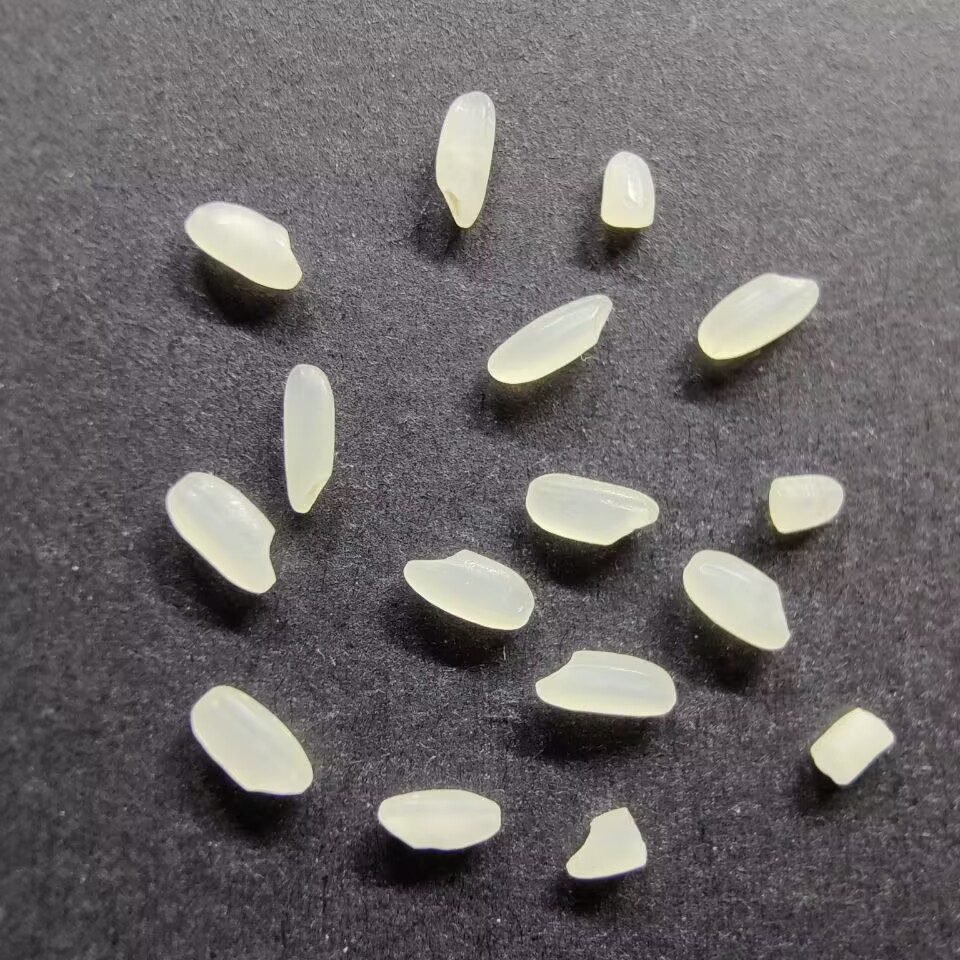broken: (809, 705, 896, 790), (563, 805, 650, 884), (767, 473, 846, 536), (599, 150, 656, 231)
rice: (164, 469, 279, 595), (188, 684, 316, 797), (484, 292, 613, 386), (696, 269, 821, 363), (682, 547, 792, 651), (403, 546, 536, 632), (183, 201, 305, 291), (523, 470, 661, 547), (533, 648, 677, 719), (433, 90, 498, 229), (281, 360, 335, 516), (376, 787, 501, 852)
